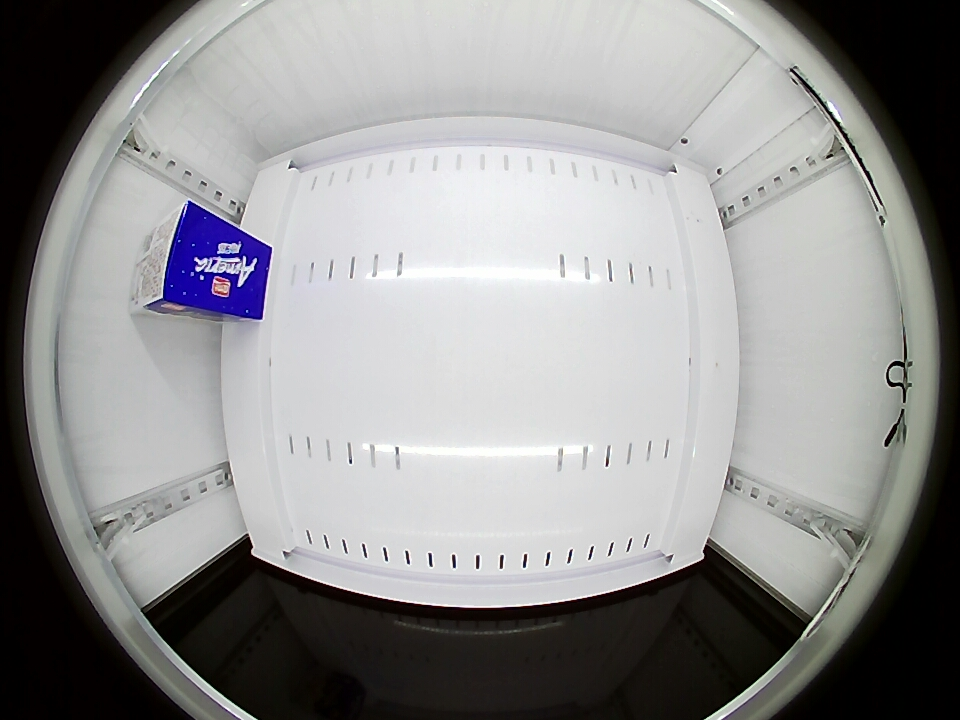meiniye: (130, 200, 218, 316)
